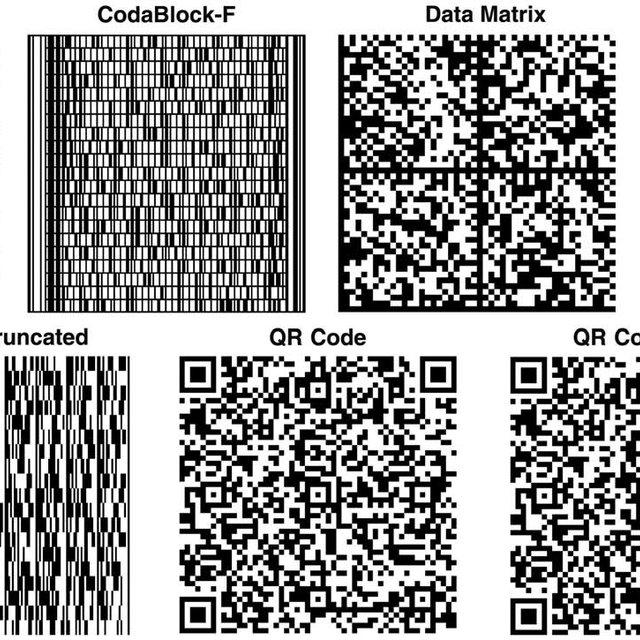datamatrix: (334, 26, 622, 318)
